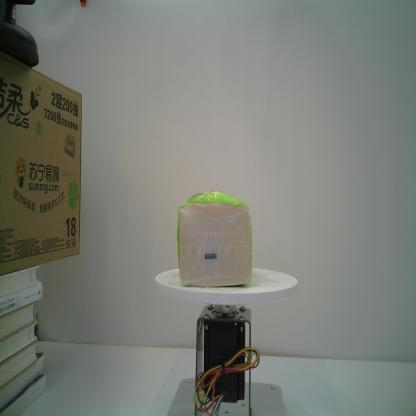Tissue: (175, 186, 256, 289)
